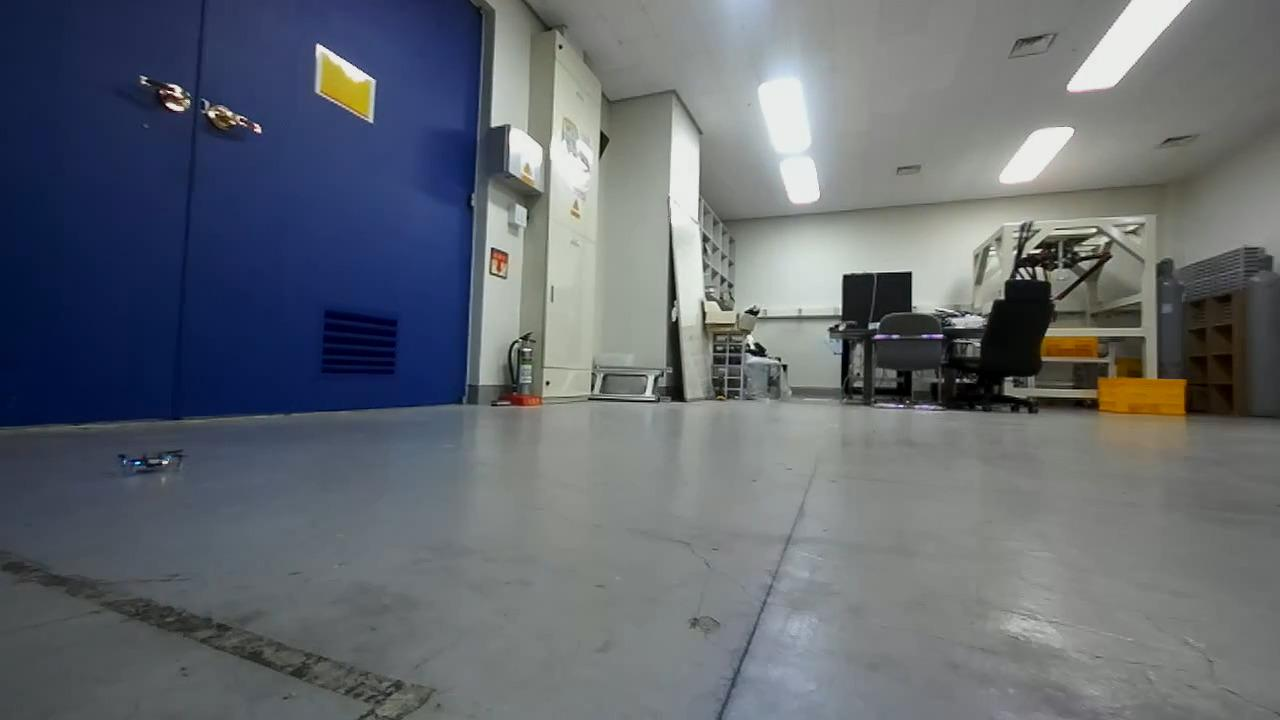crazyflie: (116, 444, 183, 477)
